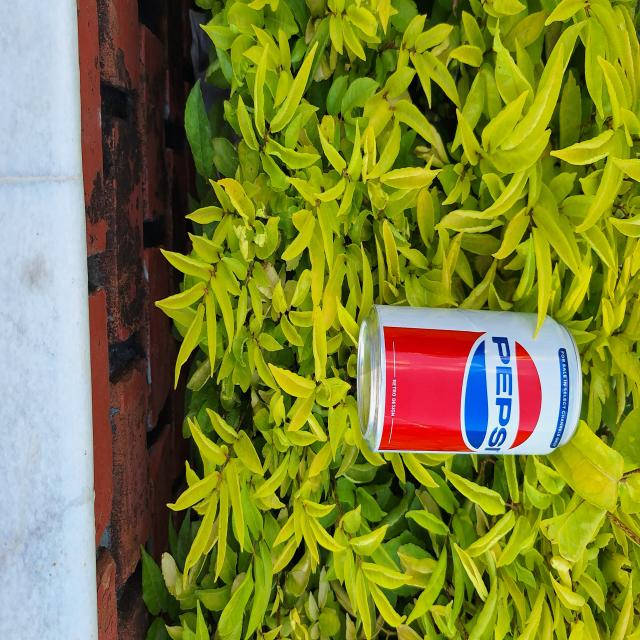Pepsi Retro: (357, 299, 585, 469)
